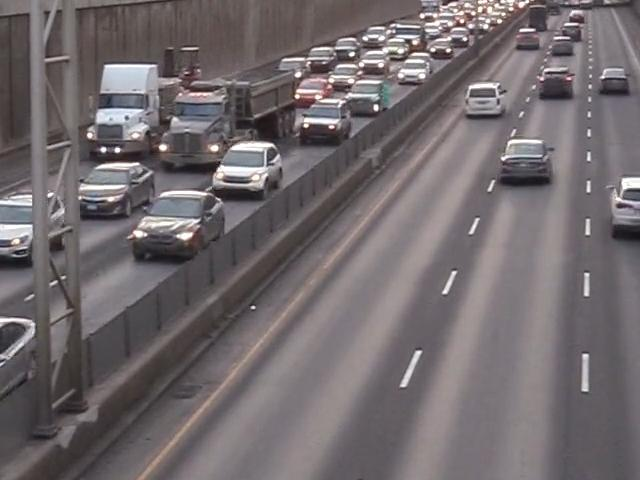car: (134, 189, 225, 265), (0, 317, 58, 424), (0, 188, 74, 268), (77, 161, 152, 221), (216, 143, 283, 199), (498, 138, 552, 185), (603, 171, 640, 239), (301, 98, 351, 145), (463, 80, 508, 122), (346, 79, 393, 115), (294, 78, 335, 109), (538, 66, 576, 99), (598, 64, 632, 97), (396, 58, 432, 85), (328, 66, 359, 93), (306, 45, 338, 70), (277, 56, 308, 79)
truck: (160, 66, 298, 169), (86, 46, 207, 158)
